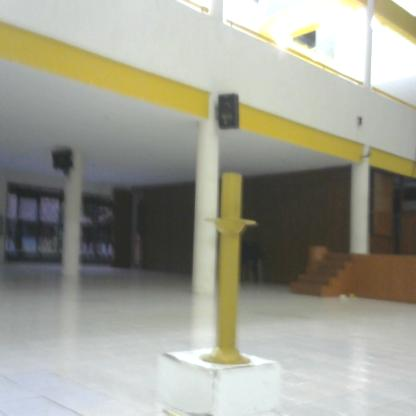pole: (201, 165, 262, 373)
